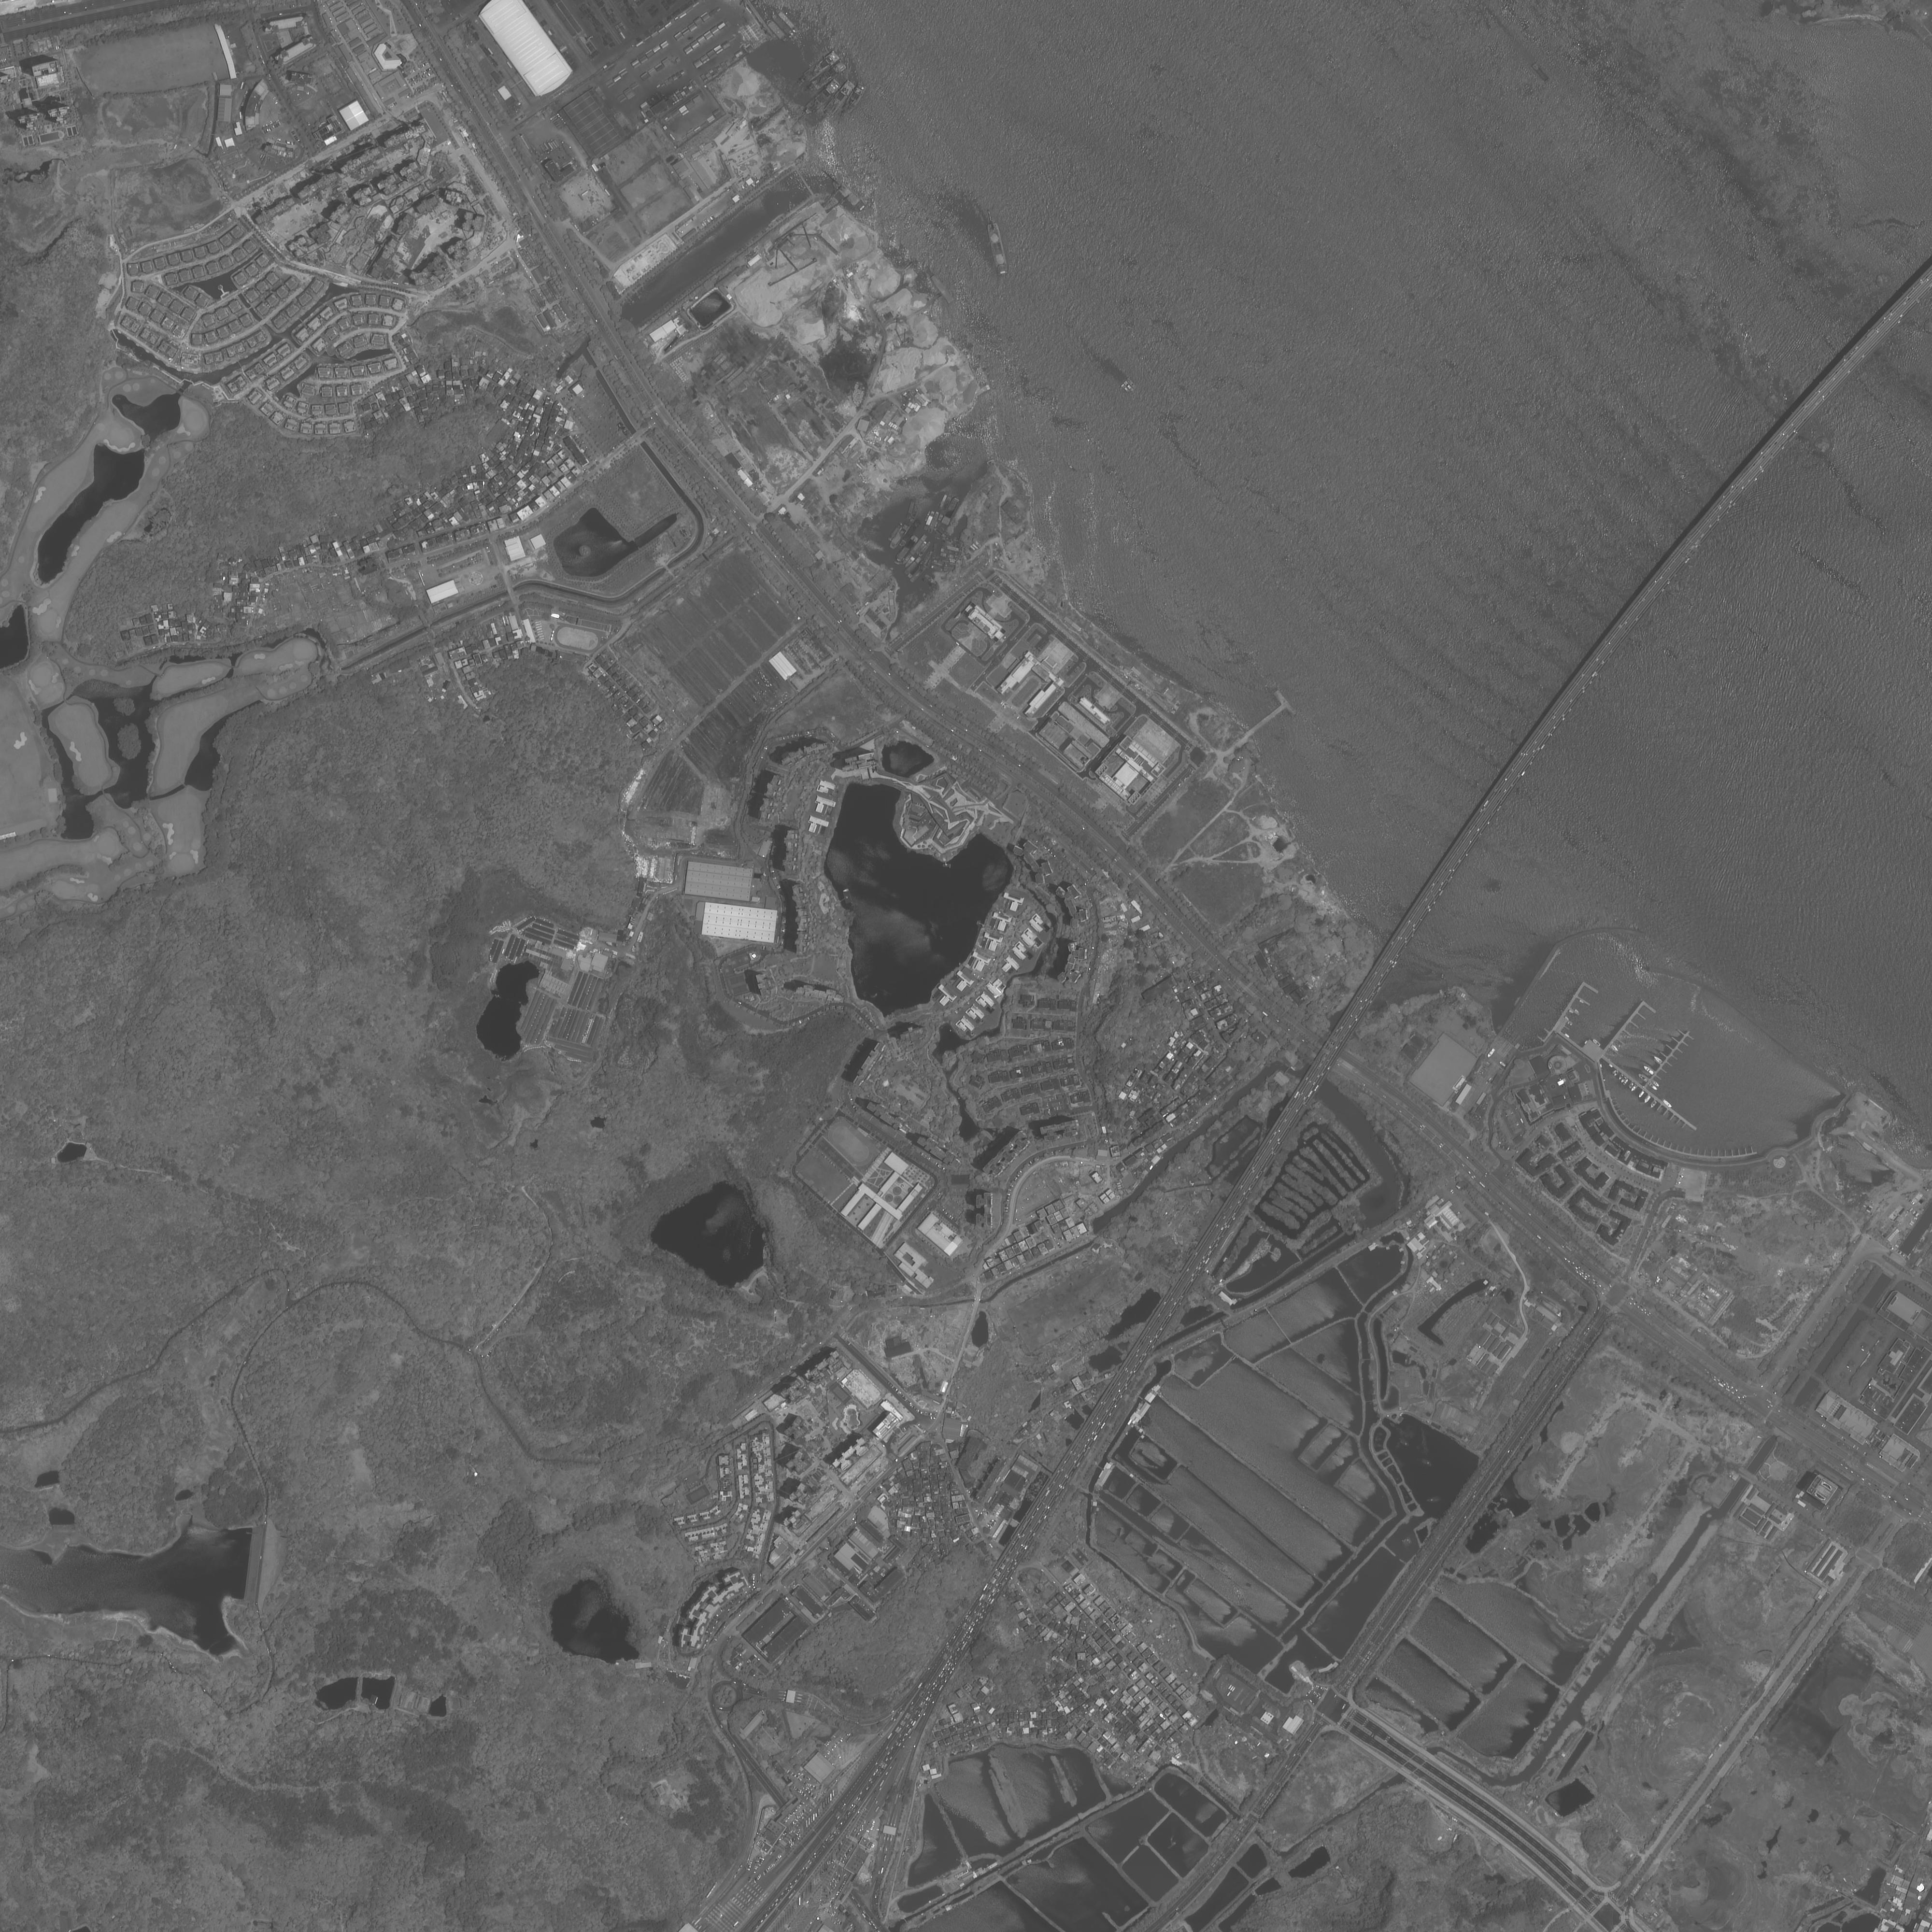harbor: (1599, 1051, 1704, 1137), (1635, 1022, 1700, 1098), (1598, 995, 1662, 1068), (1548, 977, 1605, 1045), (1269, 687, 1300, 718)
ship: (982, 208, 1011, 280), (801, 78, 843, 117), (819, 78, 857, 121), (800, 48, 843, 85), (804, 60, 849, 95), (830, 177, 867, 213), (839, 79, 871, 118), (893, 531, 922, 565), (886, 520, 914, 553), (772, 6, 801, 36), (762, 16, 790, 44), (939, 494, 963, 527), (1531, 62, 1553, 86), (901, 554, 924, 577), (923, 508, 937, 533), (1644, 1065, 1655, 1075), (1662, 1099, 1673, 1108), (1487, 1048, 1496, 1059), (1611, 1044, 1620, 1053), (1653, 1055, 1663, 1064), (1652, 1080, 1661, 1087), (1644, 1095, 1651, 1103), (1649, 1083, 1658, 1090), (1592, 1039, 1600, 1046), (1498, 1061, 1506, 1067), (1650, 1101, 1657, 1108), (1631, 1085, 1637, 1092), (1638, 1092, 1645, 1098), (1620, 1077, 1626, 1083), (1564, 1033, 1571, 1038), (1629, 1084, 1634, 1090), (1623, 1079, 1628, 1085), (1618, 1075, 1623, 1080), (1579, 1000, 1585, 1005), (1575, 1009, 1580, 1013), (1569, 1010, 1574, 1015), (1614, 1071, 1619, 1075), (1567, 1022, 1572, 1026)
